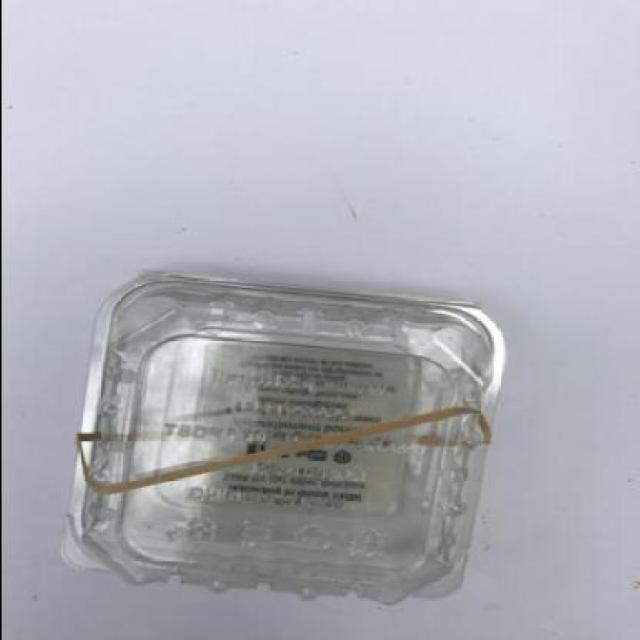PLASTIC: (57, 268, 503, 603)
